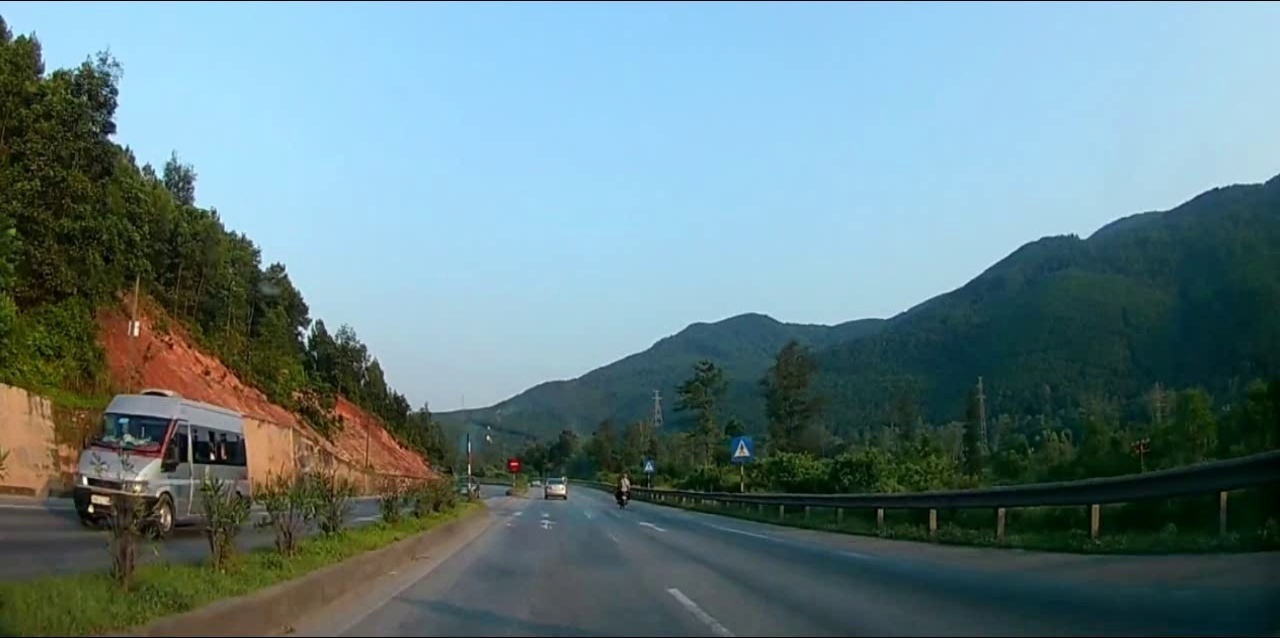Cam di nguoc chieu: (507, 458, 519, 470)
Nguoi di bo: (730, 434, 754, 460), (642, 459, 655, 472)
